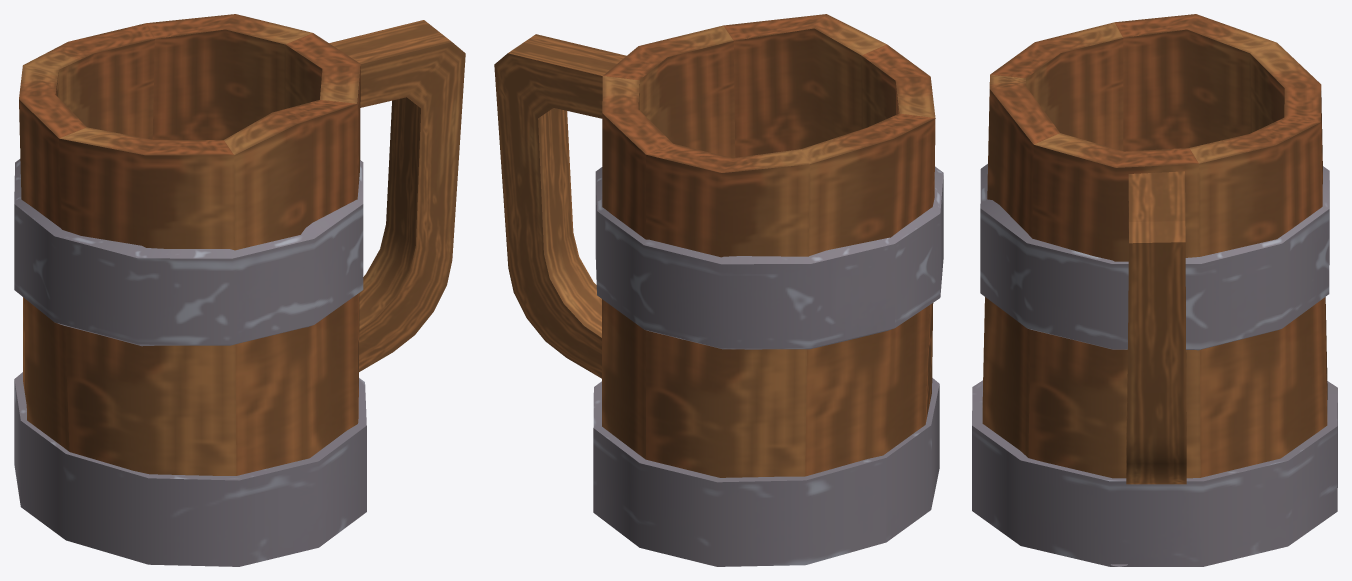
Rendered from Mug.gltf.
The picture shows the model from 3 angles, left to right: view 1: azimuth 30°, elevation 25°; view 2: azimuth 150°, elevation 25°; view 3: azimuth 270°, elevation 25°; orthographic projection. The views are drawn at different scales.
Visible parts, largest first — view 1: Mug; view 2: Mug; view 3: Mug.
Part boxes in pixels (x1,y1,x2,y2): Mug: (14,14,465,566); Mug: (494,14,943,566); Mug: (972,14,1337,566).
Size of the model in its own units: 0.1921 by 0.1839 by 0.1468.
Materials: 2 (2 with a texture image).
